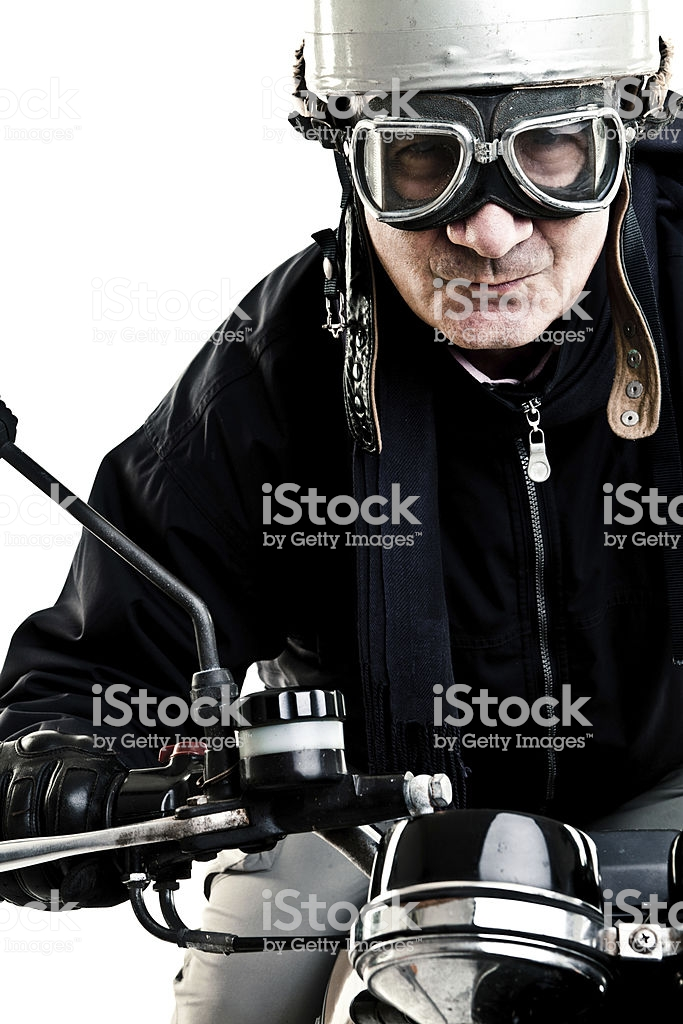helmet: (298, 1, 672, 101)
